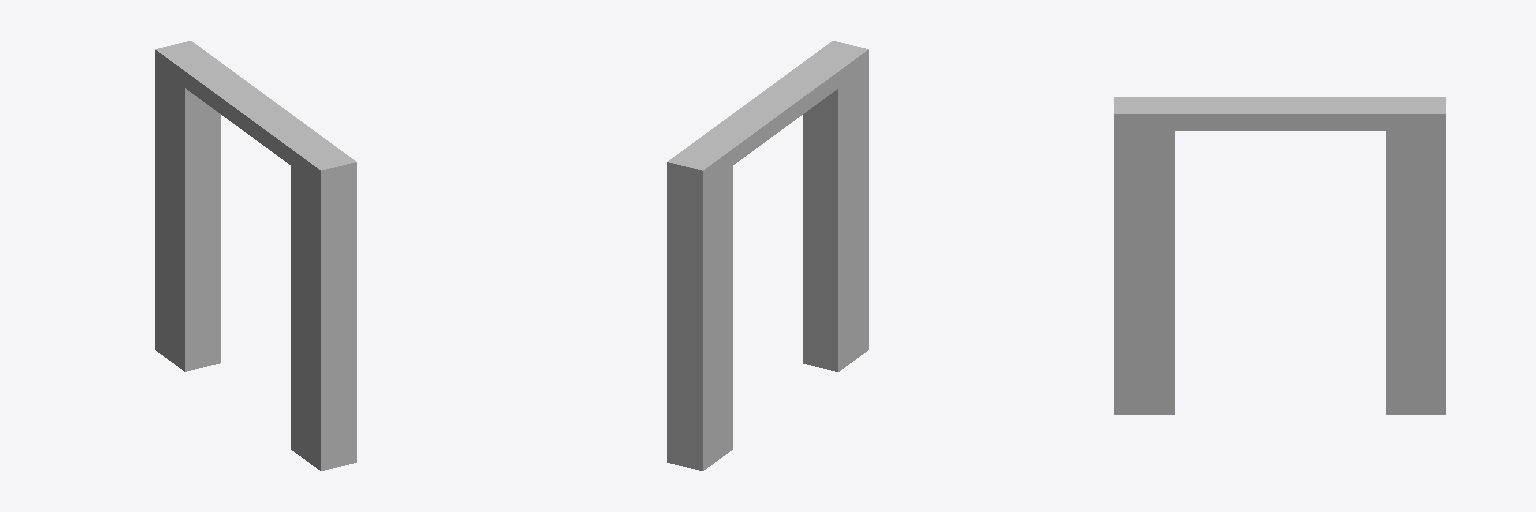
The model's file is sliding_door-02-frame.obj.
3 renders of one model, left to right at view 1: azimuth 30°, elevation 25°; view 2: azimuth 150°, elevation 25°; view 3: azimuth 270°, elevation 25°, orthographic.
Parts seen in each view (by area): view 1: Plane.002_Plane.004; view 2: Plane.002_Plane.004; view 3: Plane.002_Plane.004.
Part boxes in pixels (x1,y1,x2,y2): Plane.002_Plane.004: (155, 41, 356, 470); Plane.002_Plane.004: (667, 41, 868, 470); Plane.002_Plane.004: (1114, 97, 1445, 414).
Size of the model in its own units: 0.5 by 4 by 4.